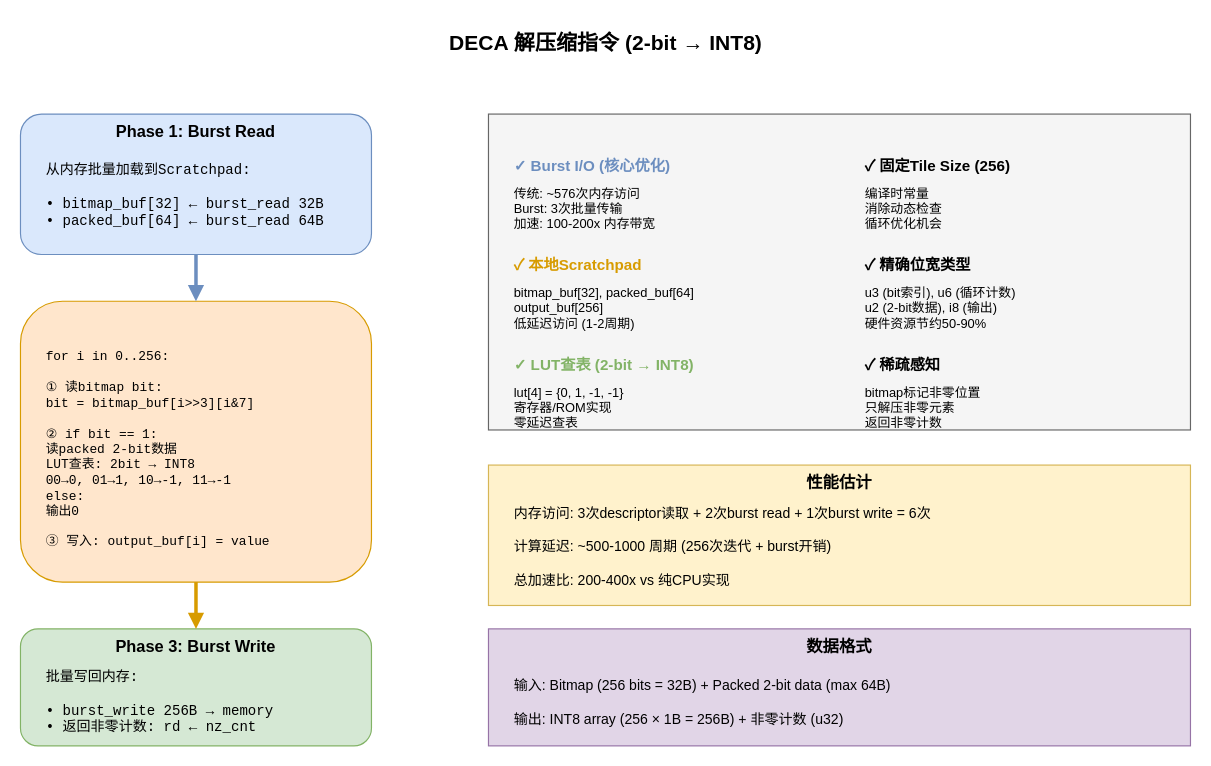
Image size: 1211x766. Some labels were removed from this diagram. The shapes that lost their labels are listed below. From the top down, each one's box as (x1, y1, x2, y2) in pixels, then its label:
(487, 113, 1190, 430): 关键特性
(19, 300, 371, 582): Phase 2: 本地解压 (256次迭代)
